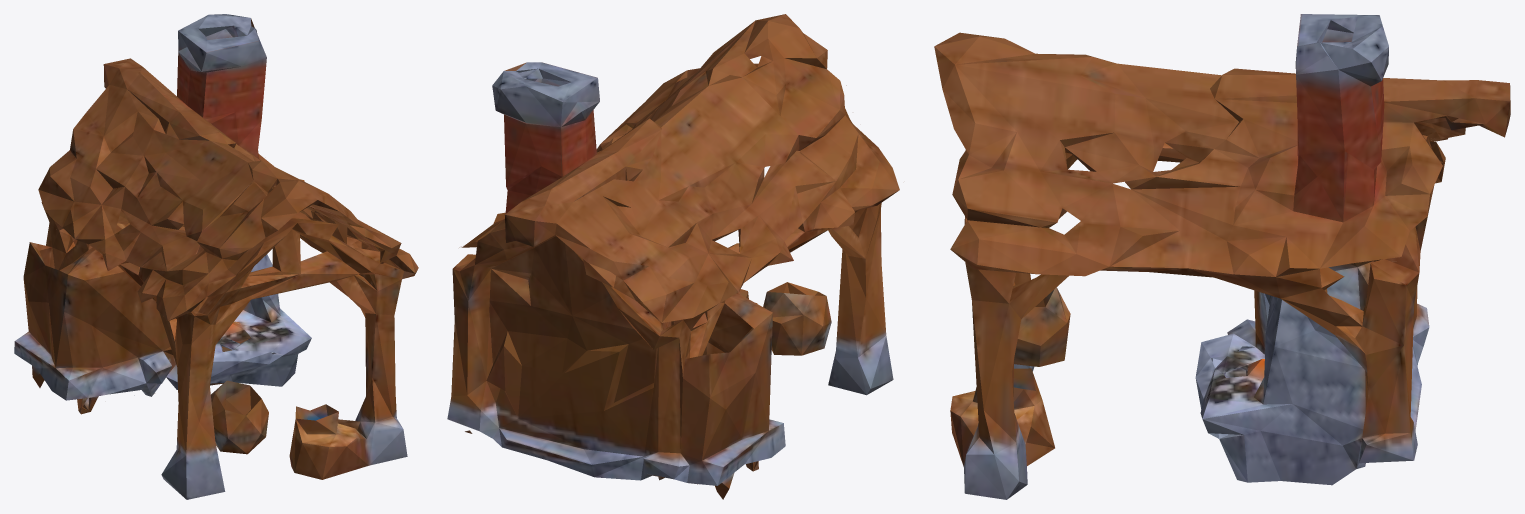
Rendered from smithy.glb.
3 renders of one model, left to right at view 1: azimuth 30°, elevation 25°; view 2: azimuth 150°, elevation 25°; view 3: azimuth 270°, elevation 25°, orthographic. The views are drawn at different scales.
Visible parts, largest first — view 1: smithy; view 2: smithy; view 3: smithy.
Part boxes in pixels (box(x1,y1,x2,y2)): smithy: box(14, 14, 418, 499); smithy: box(447, 14, 899, 499); smithy: box(934, 14, 1510, 499).
Bounding box in the file's own units: 4.72 × 6.14 × 7.14.
Materials: 1 (1 with a texture image).
